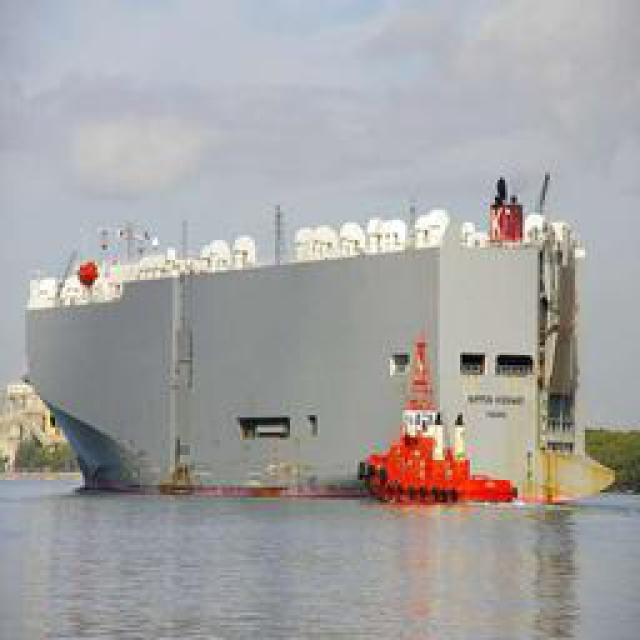Ship: (22, 172, 619, 514), (357, 326, 524, 512)
